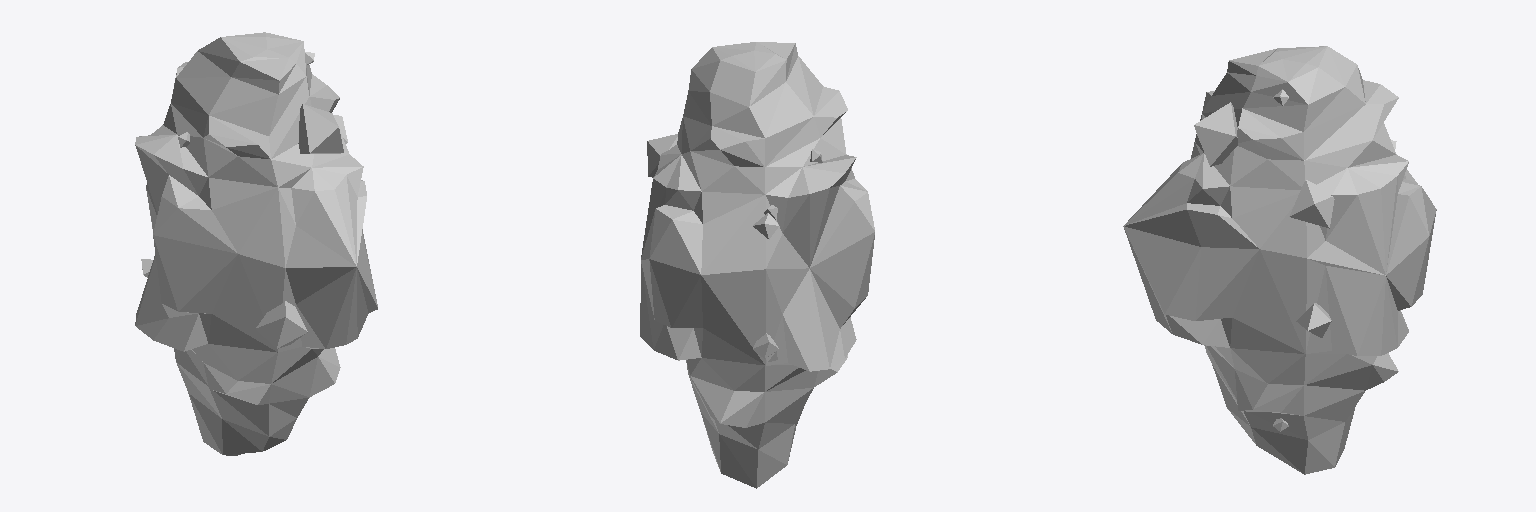
The model's file is copper_node.obj.
3 renders of one model, left to right at view 1: azimuth 30°, elevation 25°; view 2: azimuth 150°, elevation 25°; view 3: azimuth 270°, elevation 25°, orthographic.
Visible parts, largest first — view 1: world/skillactivated/tradeskillnodes/copper_miningnode_01.m.001, world/skillactivated/tradeskillnodes/copper_miningnode_01.m2_Ge; view 2: world/skillactivated/tradeskillnodes/copper_miningnode_01.m.001, world/skillactivated/tradeskillnodes/copper_miningnode_01.m2_Ge; view 3: world/skillactivated/tradeskillnodes/copper_miningnode_01.m.001, world/skillactivated/tradeskillnodes/copper_miningnode_01.m2_Ge.
Part boxes in pixels (left/top/right/bottom): world/skillactivated/tradeskillnodes/copper_miningnode_01.m.001: left=135, top=32, right=377, bottom=455; world/skillactivated/tradeskillnodes/copper_miningnode_01.m2_Ge: left=141, top=104, right=347, bottom=348; world/skillactivated/tradeskillnodes/copper_miningnode_01.m.001: left=640, top=42, right=874, bottom=488; world/skillactivated/tradeskillnodes/copper_miningnode_01.m2_Ge: left=647, top=134, right=822, bottom=362; world/skillactivated/tradeskillnodes/copper_miningnode_01.m.001: left=1123, top=46, right=1436, bottom=474; world/skillactivated/tradeskillnodes/copper_miningnode_01.m2_Ge: left=1194, top=102, right=1396, bottom=431.
Bounding box in the file's own units: 0.7076 × 1.31 × 0.9125.